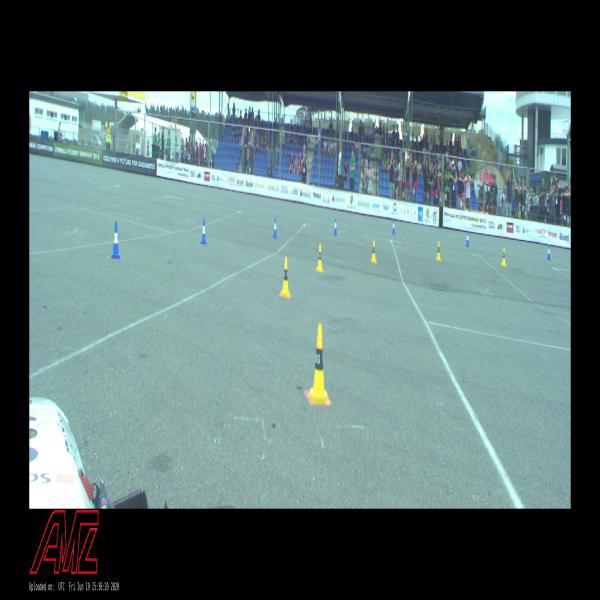blue_cone: (111, 222, 120, 259), (201, 218, 207, 244), (272, 218, 278, 237), (333, 216, 337, 235), (547, 245, 551, 260), (465, 231, 469, 246), (392, 219, 395, 235)
yellow_cone: (309, 325, 328, 404), (280, 256, 290, 296), (316, 243, 323, 273), (371, 240, 376, 262), (436, 241, 441, 261), (501, 247, 506, 267)
